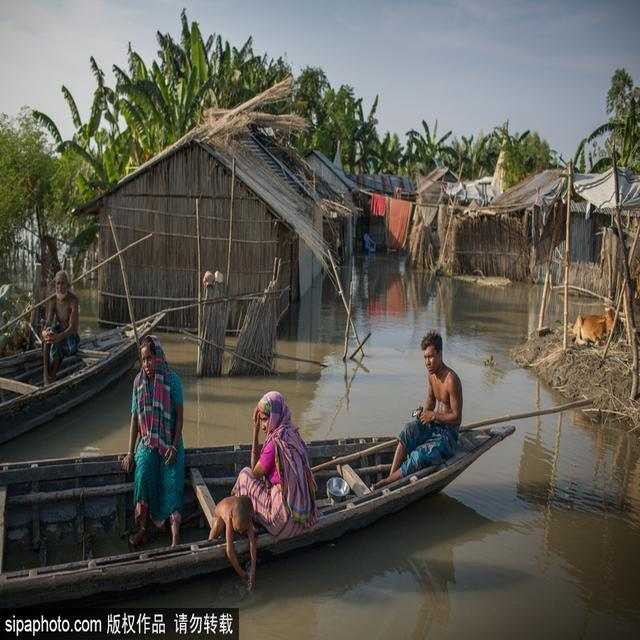Person-RiskLevel3: (115, 330, 198, 548), (375, 330, 480, 489), (231, 389, 330, 528), (24, 265, 106, 385), (201, 491, 270, 595)
